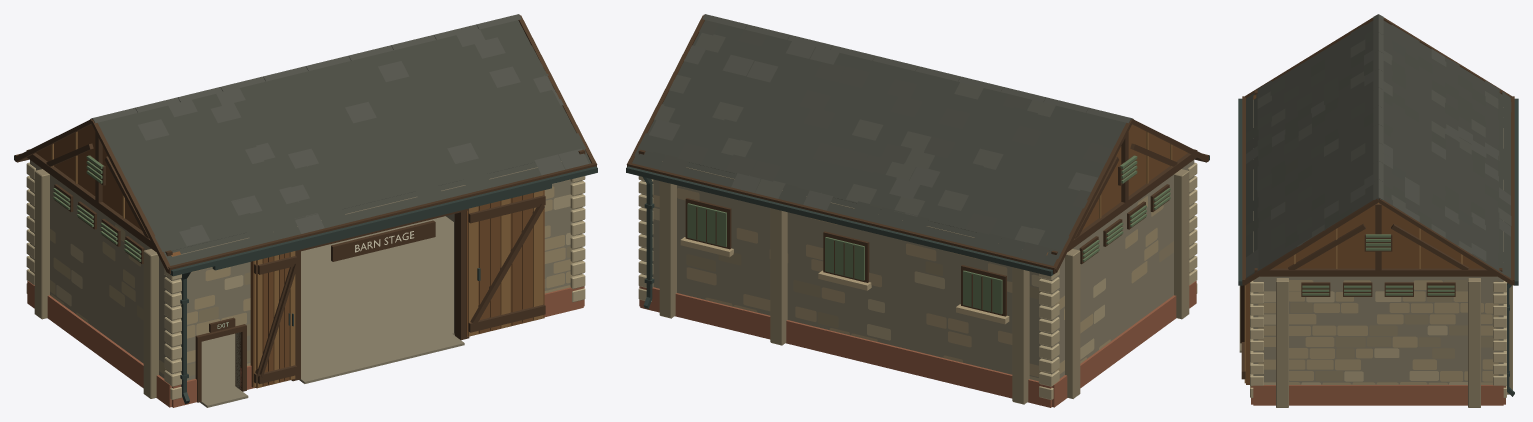
Rendered from lwf_barn_stage_v1.glb.
3 renders of one model, left to right at view 1: azimuth 30°, elevation 25°; view 2: azimuth 150°, elevation 25°; view 3: azimuth 270°, elevation 25°, orthographic. The views are drawn at different scales.
Visible parts, largest first — view 1: Barn_RoofFront, Barn_WallWest, Barn_Floor, Barn_DoorsRight, Barn_WallFront, Barn_DoorsLeft, Barn_Frame, Barn_RoofRear, Barn_WallEast, Barn_SignBacking; view 2: Barn_RoofRear, Barn_WallRear, Barn_WallWest, Barn_WallEast, Barn_RoofFront; view 3: Barn_WallEast, Barn_RoofRear, Barn_RoofFront, Barn_DoorsRight, Barn_WallRear.
Boxes of the visible parts, <box> form: Barn_RoofFront: <box>91,15,597,276</box>; Barn_WallWest: <box>26,124,190,407</box>; Barn_Floor: <box>200,216,464,407</box>; Barn_DoorsRight: <box>466,190,545,336</box>; Barn_WallFront: <box>167,161,583,407</box>; Barn_DoorsLeft: <box>250,251,297,388</box>; Barn_Frame: <box>195,184,551,402</box>; Barn_RoofRear: <box>14,14,521,162</box>; Barn_WallEast: <box>446,149,585,306</box>; Barn_SignBacking: <box>209,220,435,332</box>; Barn_RoofRear: <box>626,14,1133,276</box>; Barn_WallRear: <box>640,161,1054,407</box>; Barn_WallWest: <box>1031,124,1197,407</box>; Barn_WallEast: <box>638,149,654,308</box>; Barn_RoofFront: <box>703,14,1209,162</box>; Barn_WallEast: <box>1250,202,1514,407</box>; Barn_RoofRear: <box>1373,14,1518,285</box>; Barn_RoofFront: <box>1238,17,1378,285</box>; Barn_DoorsRight: <box>1240,282,1249,384</box>; Barn_WallRear: <box>1495,107,1512,404</box>.
Size of the model in its own units: 20.93 by 11.23 by 13.41.
Materials: 10 (7 with a texture image).
